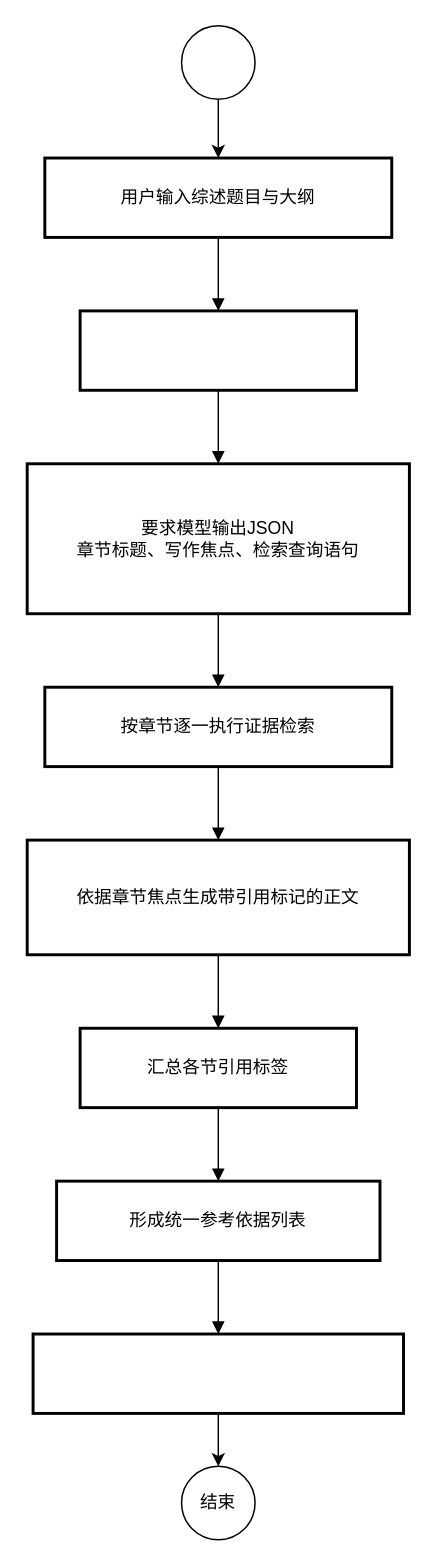
The diagram is 435 pixels wide and 1566 high, and some of its shapes have lost their labels. The centre of each missing label's shape, as x and y in pixels:
"开始" goes at pixel 217 61.
"构造提纲规划请求" goes at pixel 217 350.
"返回章节化草稿至前端展示" goes at pixel 217 1373.
